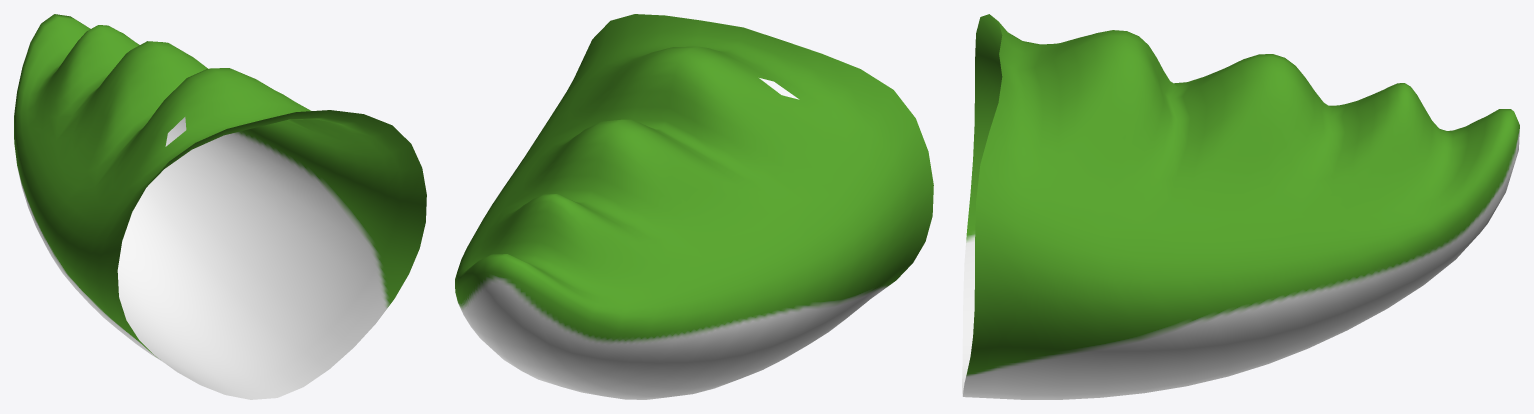
File: Gummygo_tail.obj
3 renders of one model, left to right at view 1: azimuth 30°, elevation 25°; view 2: azimuth 150°, elevation 25°; view 3: azimuth 270°, elevation 25°, orthographic. The views are drawn at different scales.
Parts seen in each view (by area): view 1: Tail_2, Tail_1, Tail_3, GummyTail_Gummy_Material; view 2: Tail_1, Tail_2, Tail_3; view 3: Tail_1, Tail_2, Tail_3, GummyTail_Gummy_Material.
Boxes of the visible parts, left/top/right/bottom form: Tail_2: left=14, top=41, right=357, bottom=359; Tail_1: left=57, top=68, right=426, bottom=399; Tail_3: left=14, top=14, right=186, bottom=163; GummyTail_Gummy_Material: left=333, top=206, right=378, bottom=270; Tail_1: left=515, top=14, right=933, bottom=343; Tail_2: left=458, top=119, right=853, bottom=399; Tail_3: left=455, top=194, right=681, bottom=390; Tail_1: left=962, top=14, right=1186, bottom=399; Tail_2: left=1101, top=54, right=1404, bottom=397; Tail_3: left=1352, top=83, right=1519, bottom=308; GummyTail_Gummy_Material: left=1066, top=338, right=1143, bottom=373.
Size of the model in its own units: 0.3827 by 0.3351 by 0.4833.
